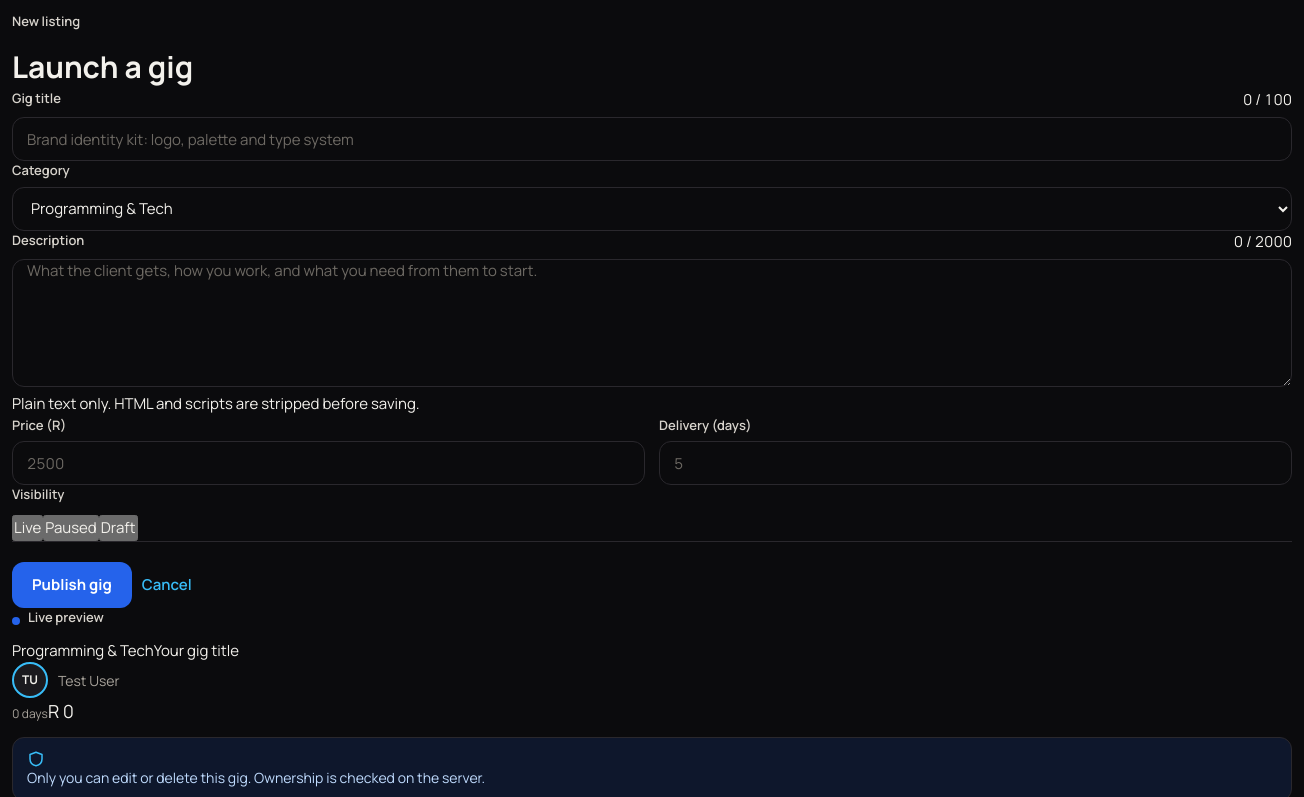
Test case: gig form input rules › shows regex validation errors and does not submit invalid data
This screenshot has width=1304, height=797.
Type "Hi" into the field labelled "Gig title" at [652, 139], box [12, 117, 1292, 161]
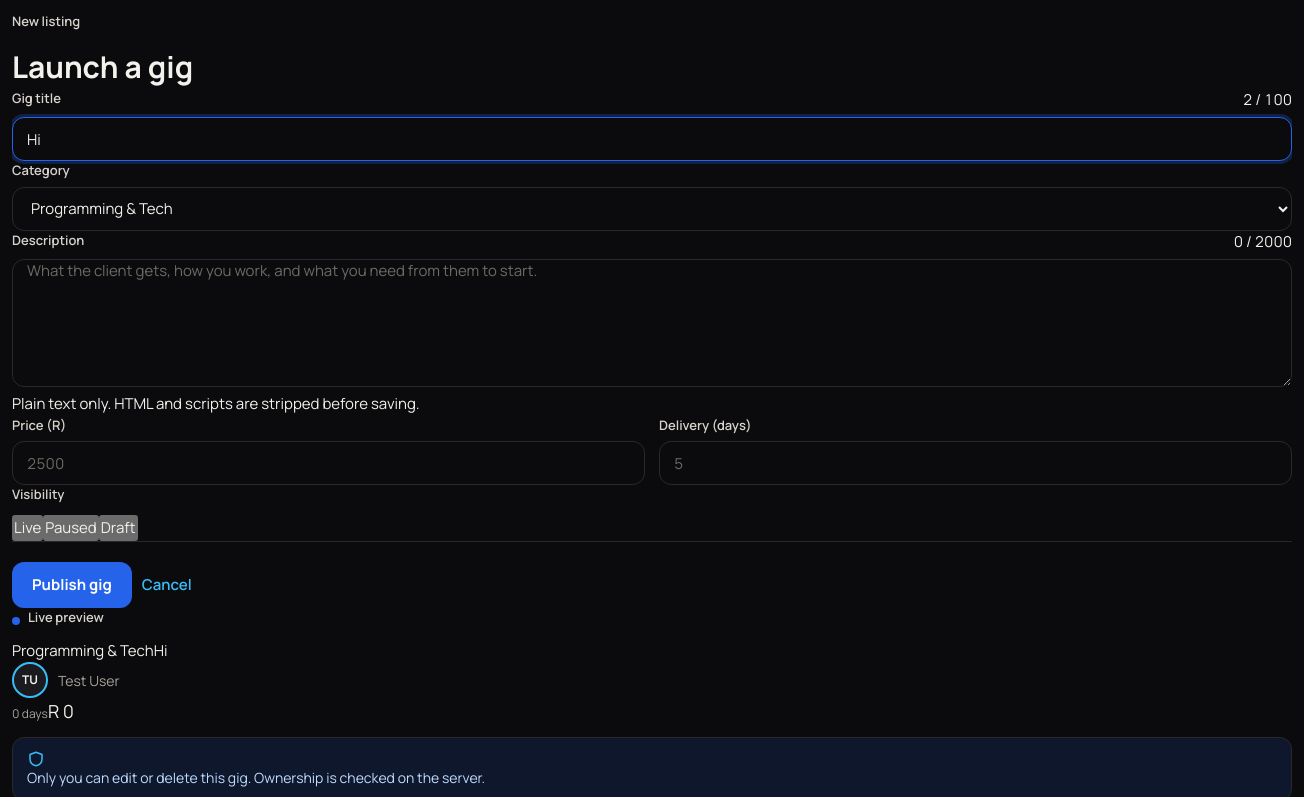
Click the button "Publish gig" at [72, 585], box [12, 562, 132, 608]
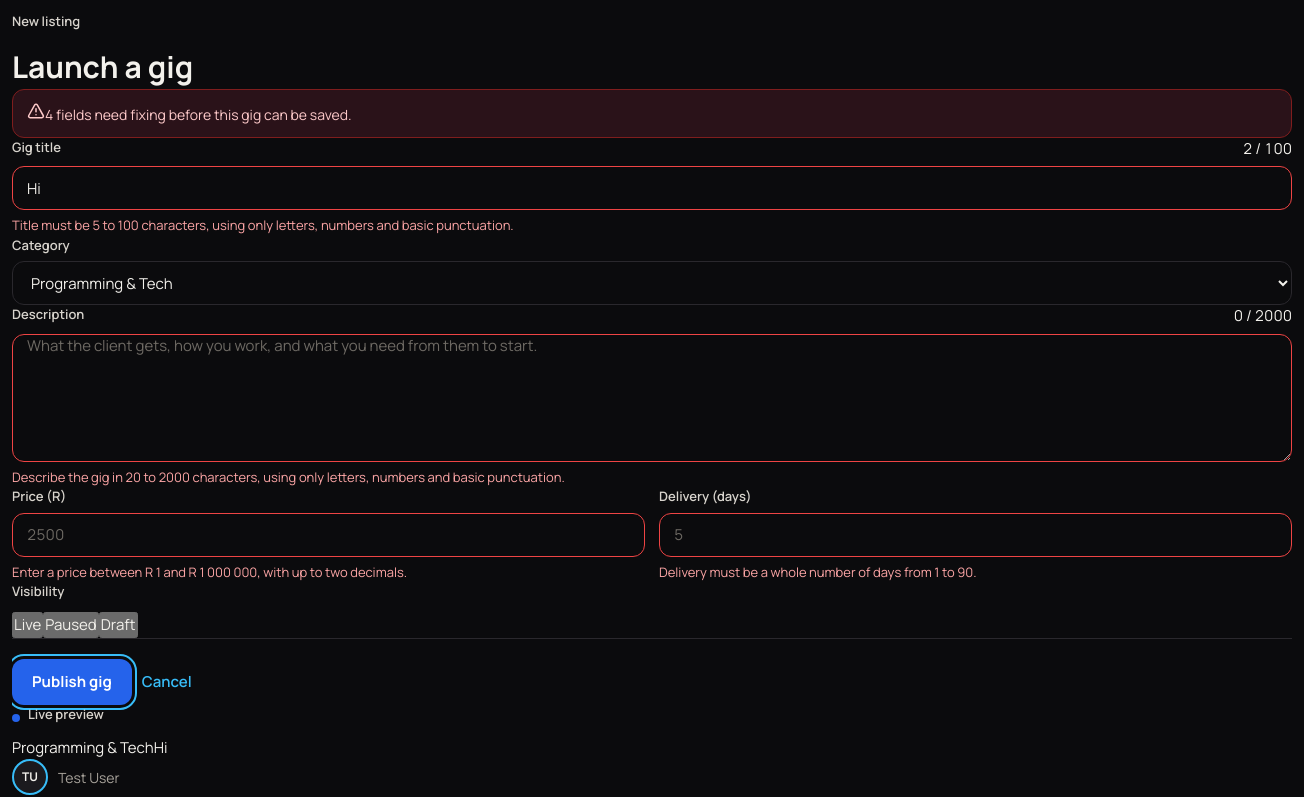
Expected: the text "Title must be 5 to 100 characters" is shown, [12, 216, 514, 234]
Expected: the text "Enter a price between" is shown, [12, 563, 407, 581]
